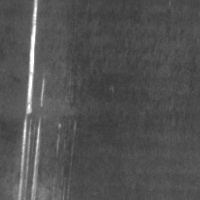scratches: (16, 1, 46, 199)
